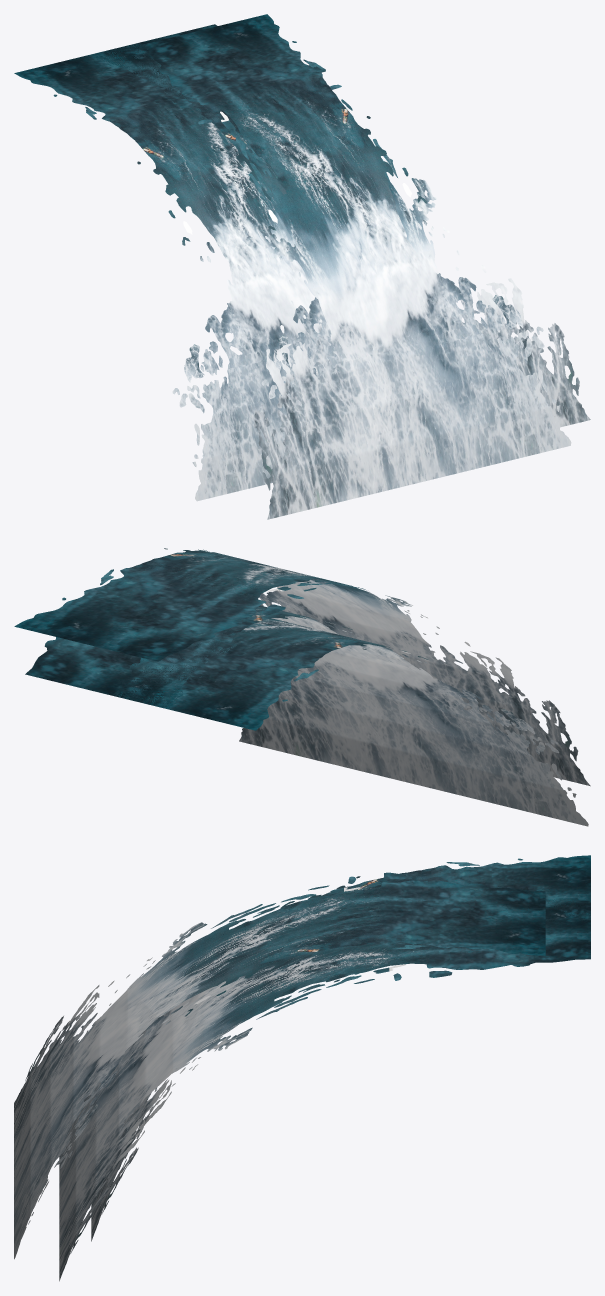
The model's file is waterfall.obj.
3 renders of one model, top to bottom at view 1: azimuth 30°, elevation 25°; view 2: azimuth 150°, elevation 25°; view 3: azimuth 270°, elevation 25°, orthographic. The views are drawn at different scales.
Parts seen in each view (by area): view 1: Group_001, Group_005, Group_003; view 2: Group_005, Group_001, Group_003; view 3: Group_001, Group_003, Group_005.
Boxes of the visible parts, x1,y1,x2,y2 form: Group_001: (142,14,571,519); Group_005: (14,43,331,501); Group_003: (91,24,590,455); Group_005: (112,618,588,826); Group_001: (14,548,590,786); Group_003: (25,605,487,720); Group_001: (14,872,545,1259); Group_003: (59,895,590,1281); Group_005: (91,855,590,1241).
Size of the model in its own units: 17.01 by 11.16 by 21.08.
